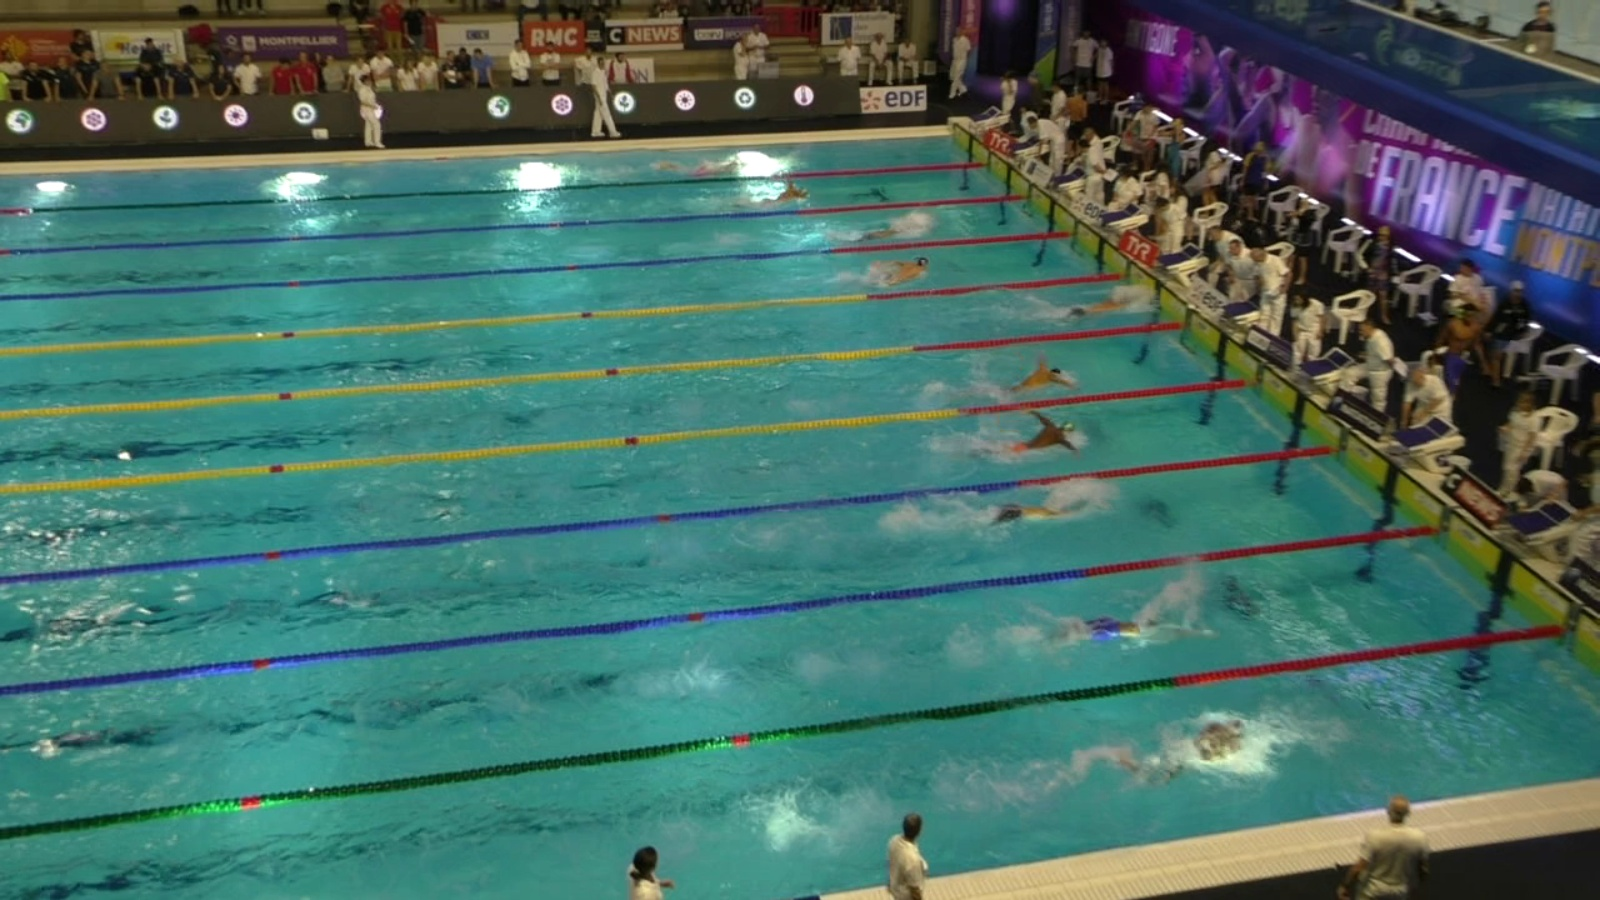swimmerwdd: (1109, 719, 1254, 788), (1022, 608, 1209, 657), (959, 407, 1087, 468), (954, 500, 1090, 538), (973, 359, 1079, 408), (830, 253, 935, 300), (726, 173, 821, 215), (1051, 291, 1151, 331), (837, 215, 931, 255), (651, 152, 765, 180)
